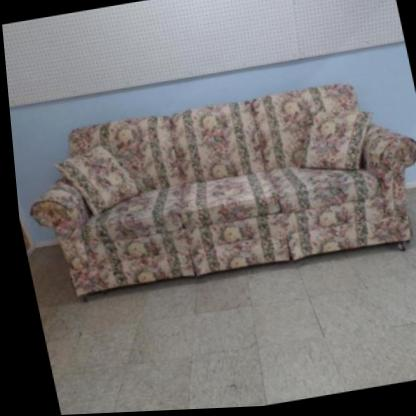Sofa: (8, 72, 416, 313)
